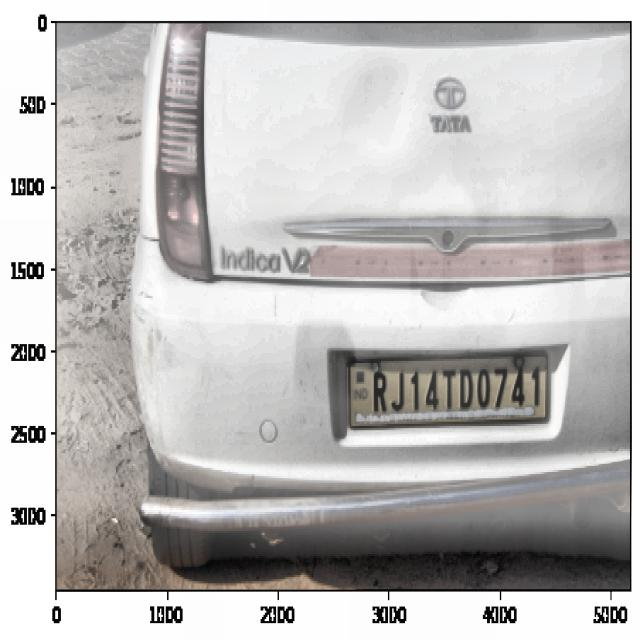license_plate: (363, 354, 549, 419)
